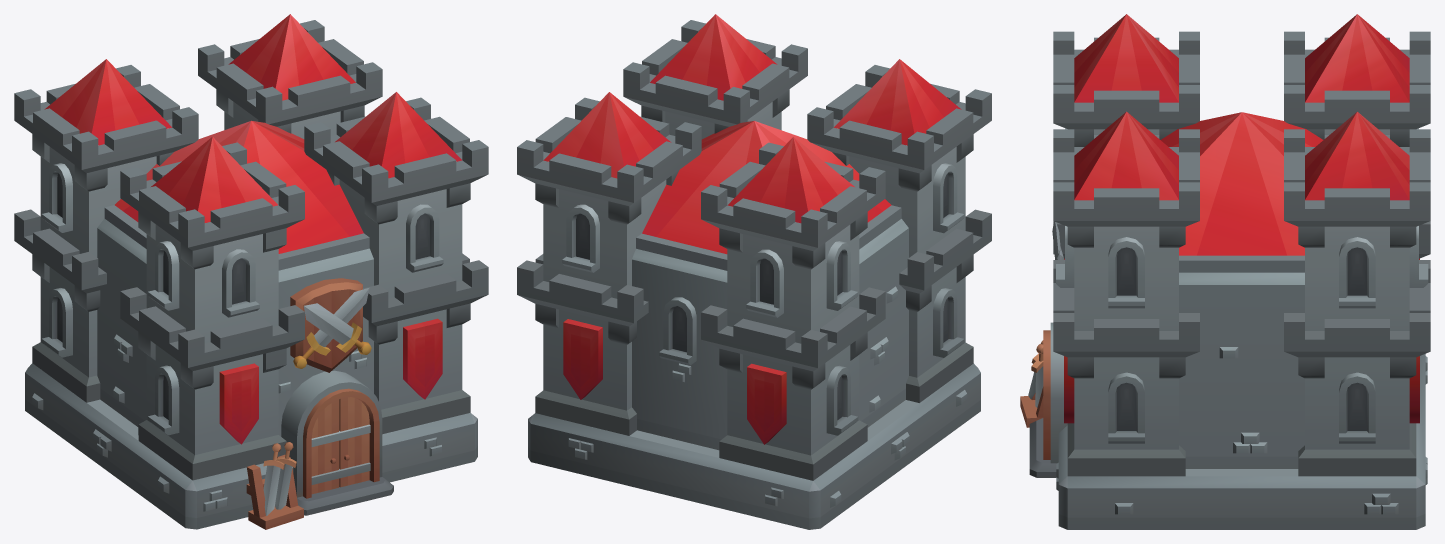
Rendered from barracks_red.glb.
3 renders of one model, left to right at view 1: azimuth 30°, elevation 25°; view 2: azimuth 150°, elevation 25°; view 3: azimuth 270°, elevation 25°, orthographic. The views are drawn at different scales.
Visible parts, largest first — view 1: building_barracks_red; view 2: building_barracks_red; view 3: building_barracks_red.
Boxes of the visible parts, x1,y1,x2,y2 form: building_barracks_red: [14, 14, 488, 529]; building_barracks_red: [517, 14, 991, 529]; building_barracks_red: [1020, 14, 1430, 529].
Bounding box in the file's own units: 1.44 × 1.64 × 1.57.
Materials: 1 (1 with a texture image).
